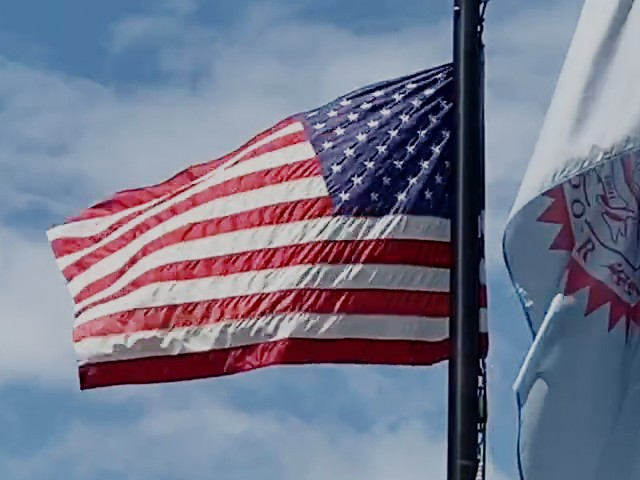America flag: (45, 62, 453, 393)
